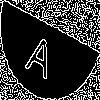A: (25, 25, 58, 81)
